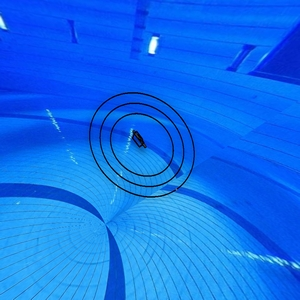circle: (83, 89, 196, 198)
submarine: (127, 128, 146, 148)
